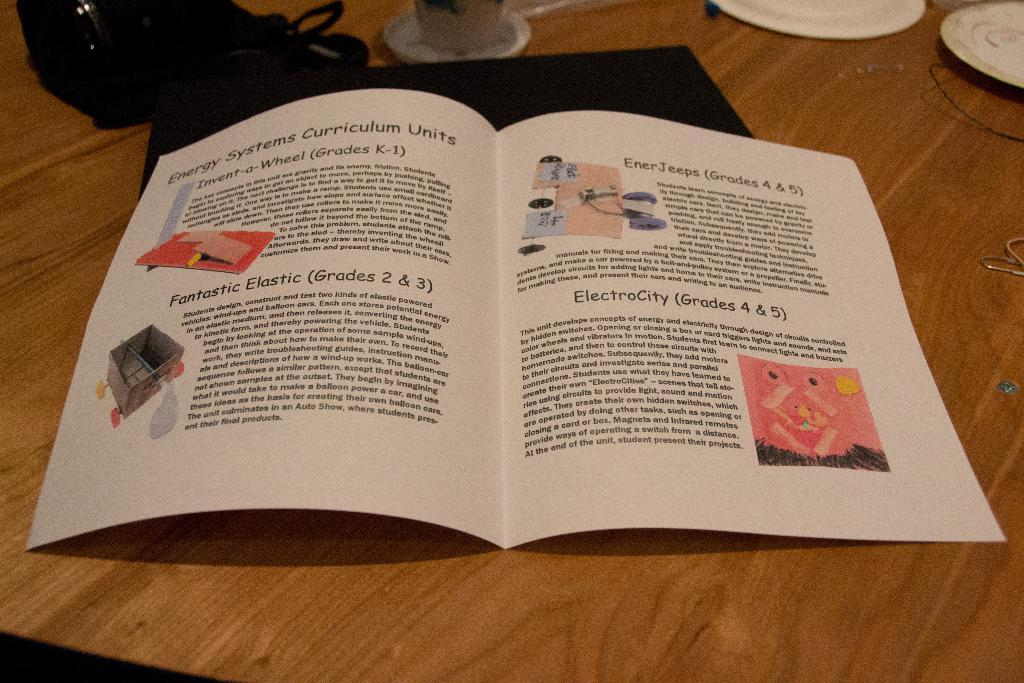book: (43, 93, 1020, 570)
